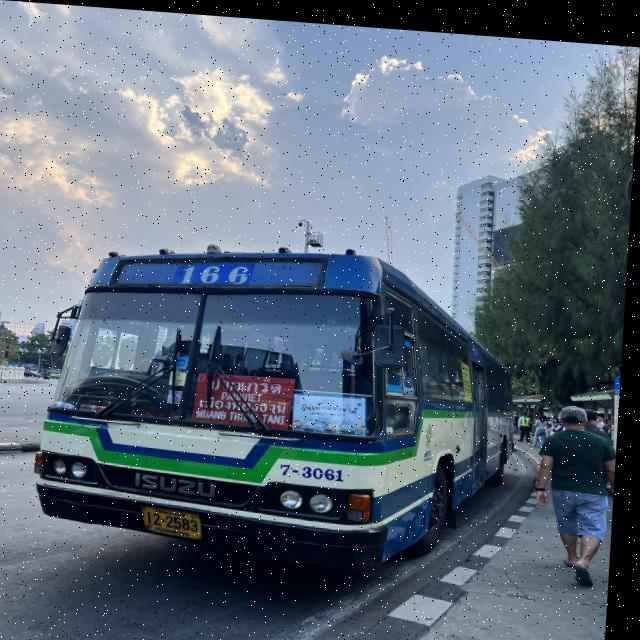BMTA-bus: (38, 245, 519, 568)
Bus Line Number: (176, 258, 260, 286)
Bus Side Number: (277, 455, 357, 485)
Destination Sign: (196, 364, 298, 427)
